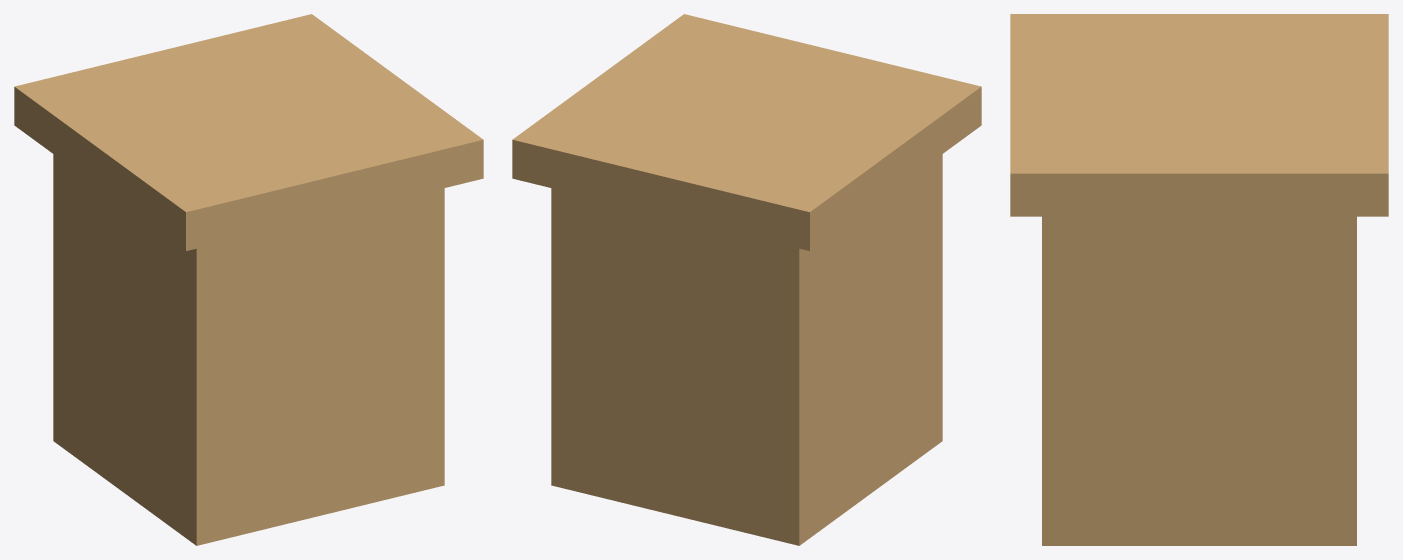
The model's file is marshal-post-2x3.glb.
The picture shows the model from 3 angles, left to right: view 1: azimuth 30°, elevation 25°; view 2: azimuth 150°, elevation 25°; view 3: azimuth 270°, elevation 25°; orthographic projection. The views are drawn at different scales.
Visible parts, largest first — view 1: marshal-post-2x3; view 2: marshal-post-2x3; view 3: marshal-post-2x3.
Boxes of the visible parts, x1=… form: marshal-post-2x3: x1=14, y1=14, x2=483, y2=545; marshal-post-2x3: x1=512, y1=14, x2=981, y2=545; marshal-post-2x3: x1=1010, y1=14, x2=1388, y2=545.
Bounding box in the file's own units: 2.4 × 2.7 × 2.4.
